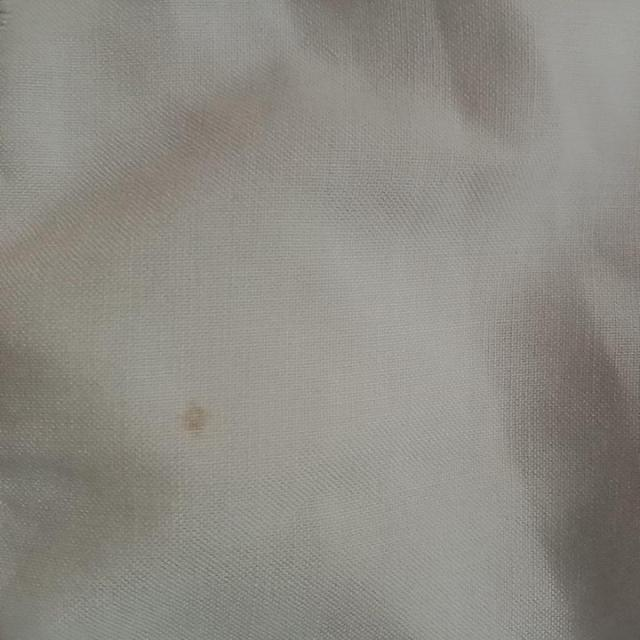stain: (161, 391, 229, 439)
